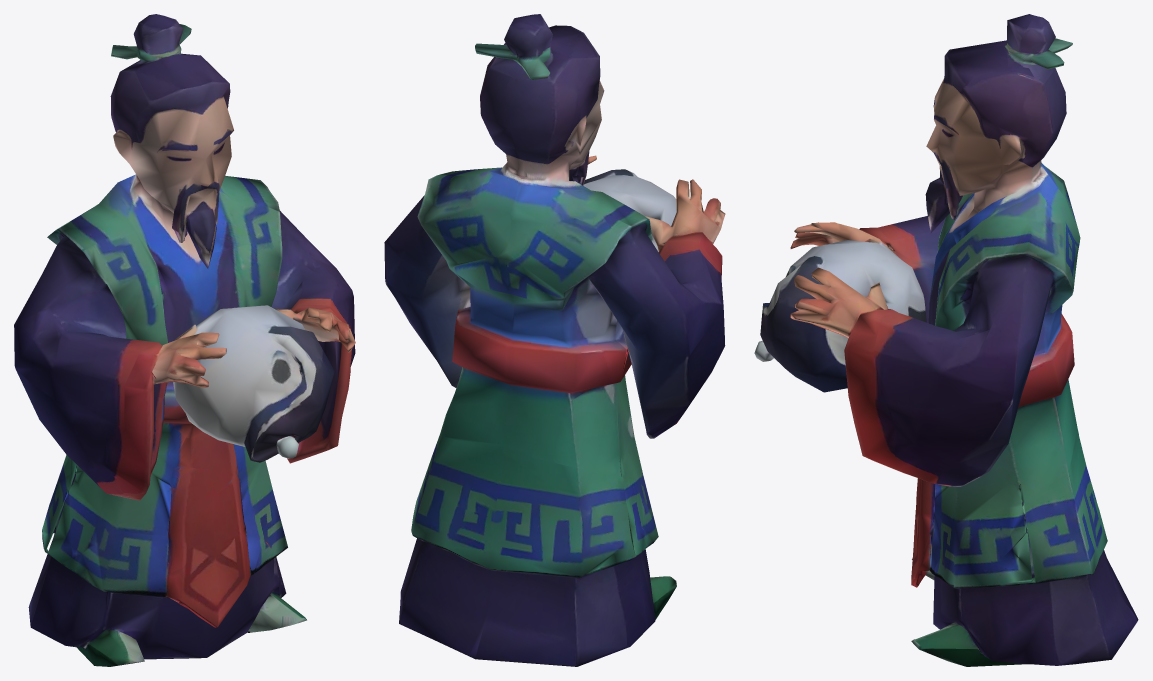
Rendered from ss_taiji.glb.
3 renders of one model, left to right at view 1: azimuth 30°, elevation 25°; view 2: azimuth 150°, elevation 25°; view 3: azimuth 270°, elevation 25°, orthographic.
Parts seen in each view (by area): view 1: tripo_node_78cae553-c3d1-41f0-8ff6-568dfdd7d9bc; view 2: tripo_node_78cae553-c3d1-41f0-8ff6-568dfdd7d9bc; view 3: tripo_node_78cae553-c3d1-41f0-8ff6-568dfdd7d9bc.
Part boxes in pixels (<box>): tripo_node_78cae553-c3d1-41f0-8ff6-568dfdd7d9bc: <box>14,14,355,666</box>; tripo_node_78cae553-c3d1-41f0-8ff6-568dfdd7d9bc: <box>384,14,725,666</box>; tripo_node_78cae553-c3d1-41f0-8ff6-568dfdd7d9bc: <box>754,14,1138,666</box>.
Size of the model in its own units: 0.5261 by 0.9996 by 0.5716.
1 material, 1 textured.
